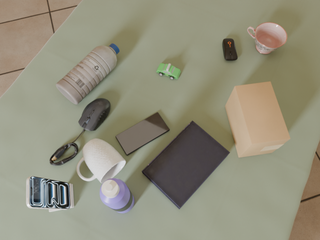book: (142, 121, 230, 209)
bottle: (56, 44, 119, 104), (100, 178, 134, 213)
box: (225, 82, 290, 157)
cup: (77, 138, 126, 183), (247, 22, 287, 54)
mouse: (78, 98, 110, 132), (223, 39, 237, 61)
phone: (116, 112, 170, 155), (26, 176, 70, 210)
toy_car: (156, 63, 181, 79)
